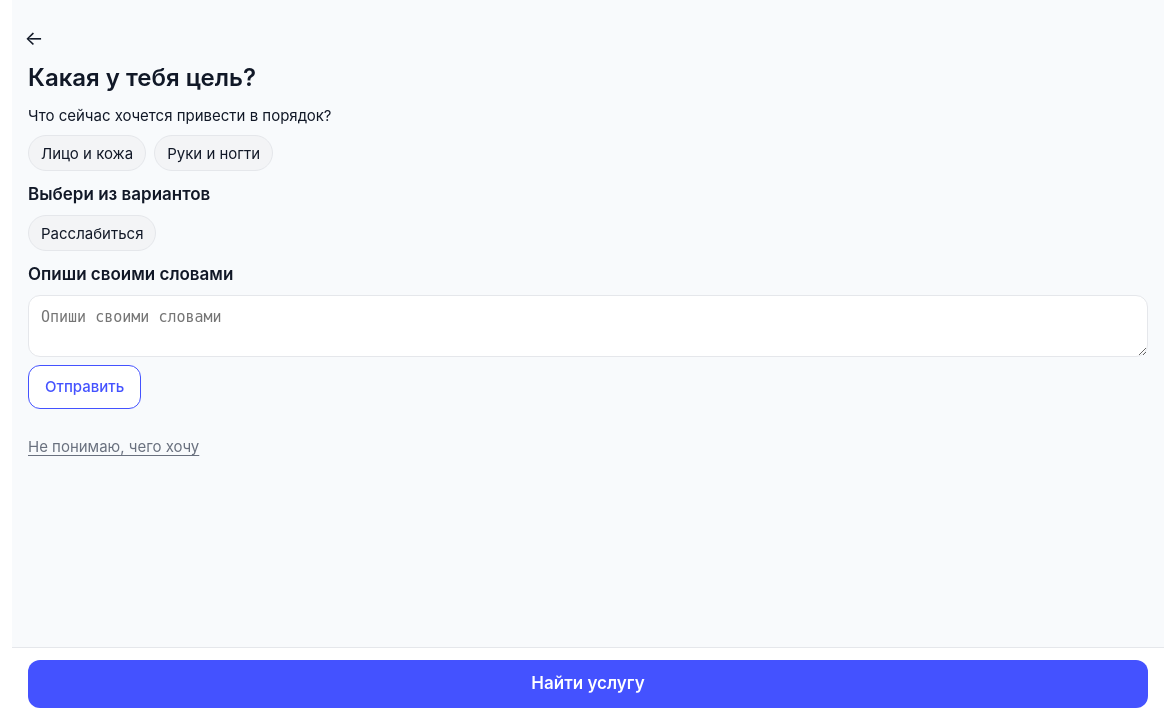
Test: шаг анкеты рисуется тем, что прислал сервер › отказ сервера перечитывает документ, а не замораживает протухший
Click the button "Лицо и кожа".
click(87, 153)  # box [28,135,146,171]
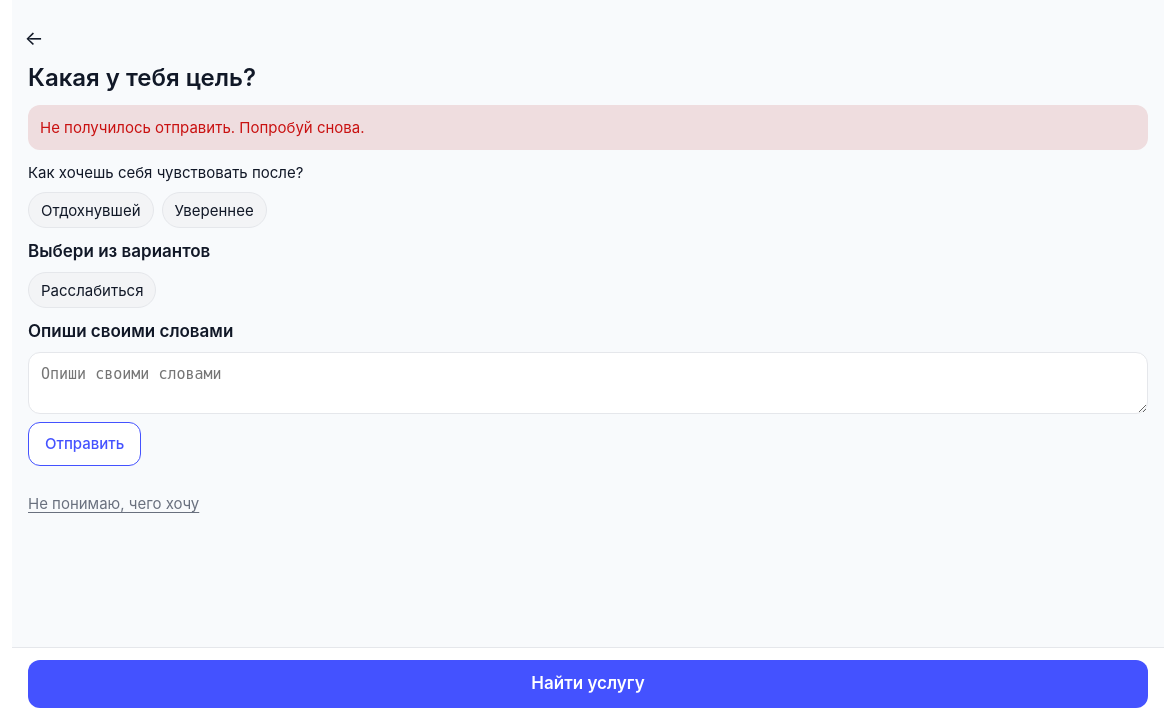
Expected: the text "Не получилось отправить. Попробуй снова." is shown, [40,118,364,137]
Expected: the text "Как хочешь себя чувствовать после?" is shown, [28,163,303,182]
